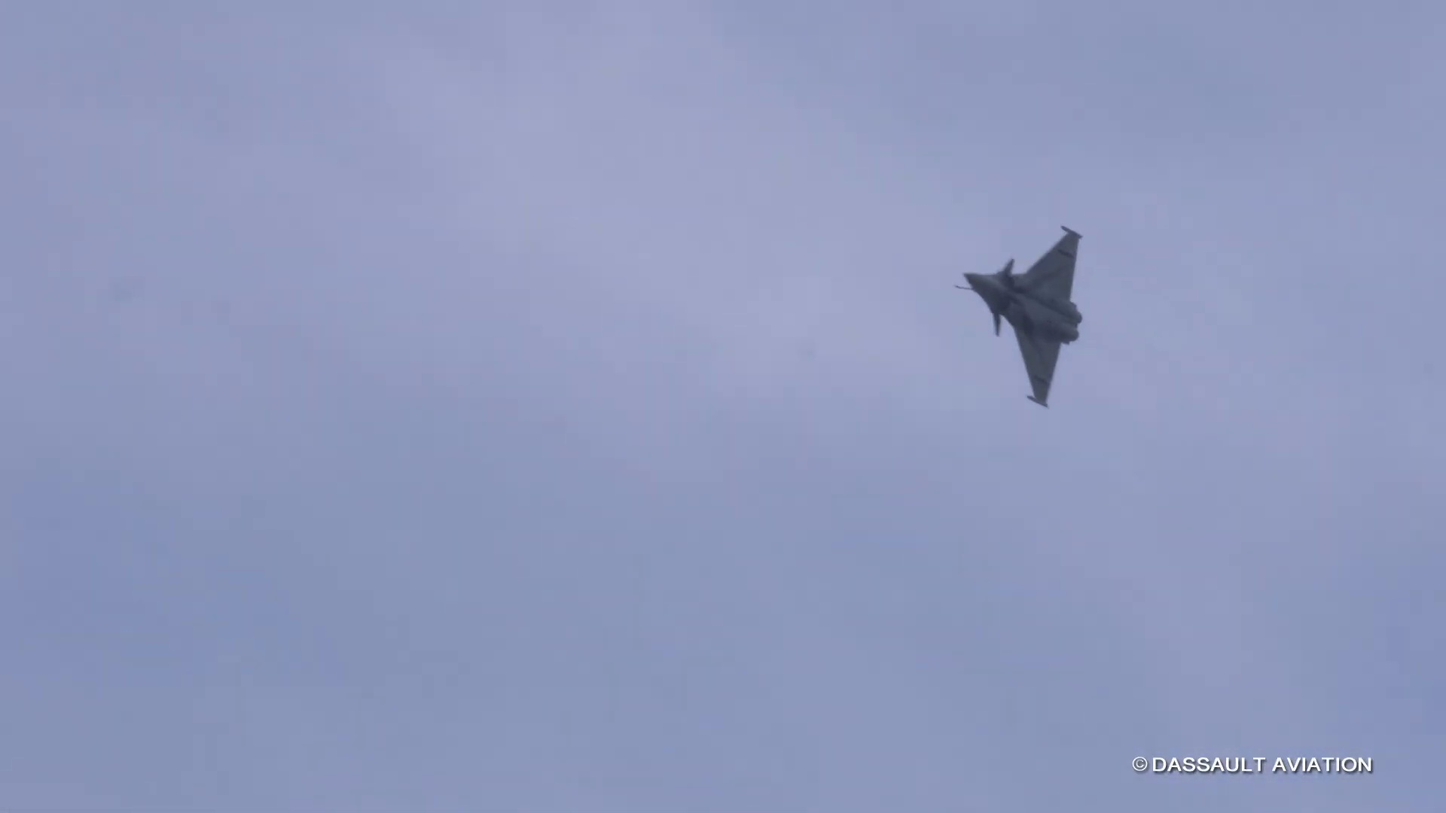Rafale: (952, 222, 1091, 421)
